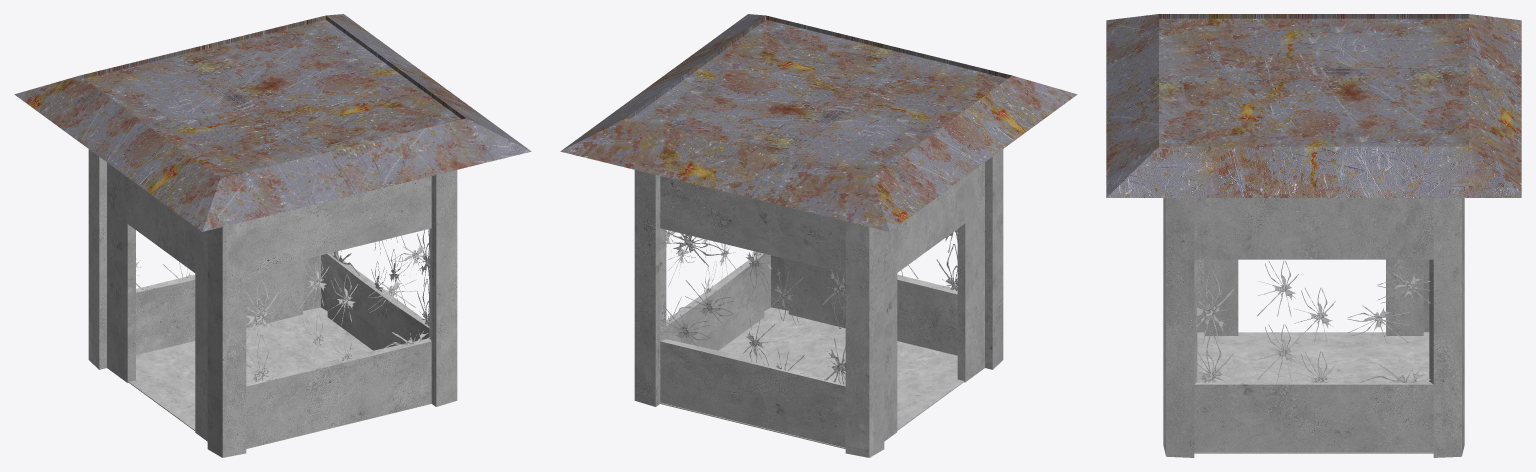
File: Security_Post.FBX
3 views of the same model, side by side, from view 1: azimuth 30°, elevation 25°; view 2: azimuth 150°, elevation 25°; view 3: azimuth 270°, elevation 25° (orthographic). The views are drawn at different scales.
Visible parts, largest first — view 1: Box002, Box003, Plane026, Plane027, Plane025, Plane024; view 2: Box002, Box003, Plane019, Plane021, Plane020; view 3: Box002, Box003, Plane023, Plane024, Plane022.
Part boxes in pixels (x1,y1,x2,y2): Box002: [14, 14, 531, 457]; Box003: [128, 307, 372, 430]; Plane026: [246, 257, 358, 346]; Plane027: [246, 315, 357, 383]; Plane025: [368, 245, 430, 352]; Plane024: [371, 249, 429, 326]; Box002: [560, 14, 1077, 457]; Box003: [659, 307, 964, 448]; Plane019: [663, 230, 733, 346]; Plane021: [743, 252, 845, 328]; Plane020: [743, 318, 845, 384]; Box002: [1106, 14, 1521, 457]; Box003: [1194, 332, 1433, 453]; Plane023: [1196, 261, 1335, 342]; Plane024: [1196, 324, 1335, 382]; Plane022: [1348, 272, 1430, 382].
Size of the model in its own units: 780 by 641 by 770.
4 materials, 4 textured.
